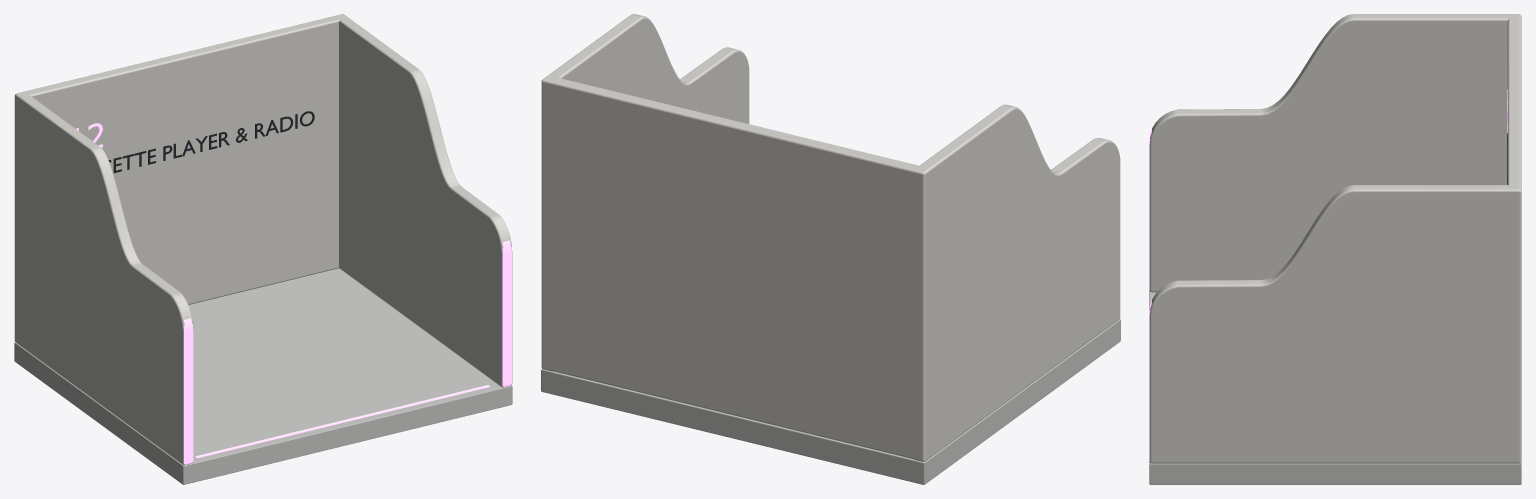
Rendered from Room_12_cassette-player-radio.glb.
3 renders of one model, left to right at view 1: azimuth 30°, elevation 25°; view 2: azimuth 150°, elevation 25°; view 3: azimuth 270°, elevation 25°, orthographic. The views are drawn at different scales.
Visible parts, largest first — view 1: Walls, Floor, Label, Accent; view 2: Walls, Floor; view 3: Walls, Floor.
Boxes of the visible parts, box(x1,y1,x2,y2) form: Walls: box(14, 14, 512, 465); Floor: box(14, 268, 512, 484); Label: box(76, 111, 314, 173); Accent: box(195, 385, 490, 458); Walls: box(541, 14, 1120, 461); Floor: box(541, 319, 1120, 484); Walls: box(1149, 14, 1521, 463); Floor: box(1149, 291, 1521, 484).
Bounding box in the file's own units: 3.6 × 2.8 × 3.2.
